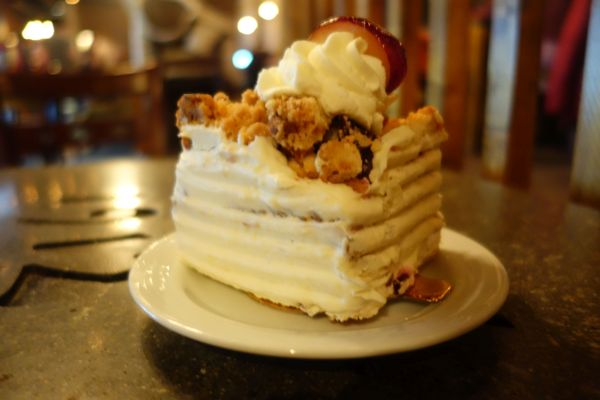sushi: (168, 17, 452, 322)
